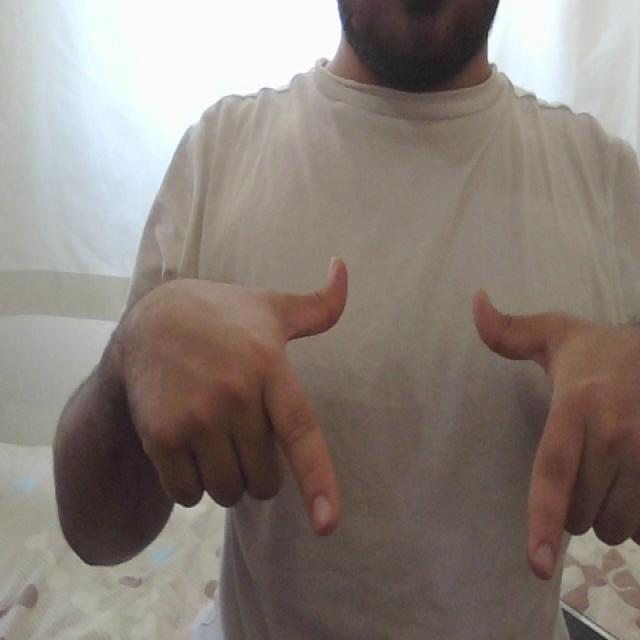Nerede: (257, 252, 596, 584)
